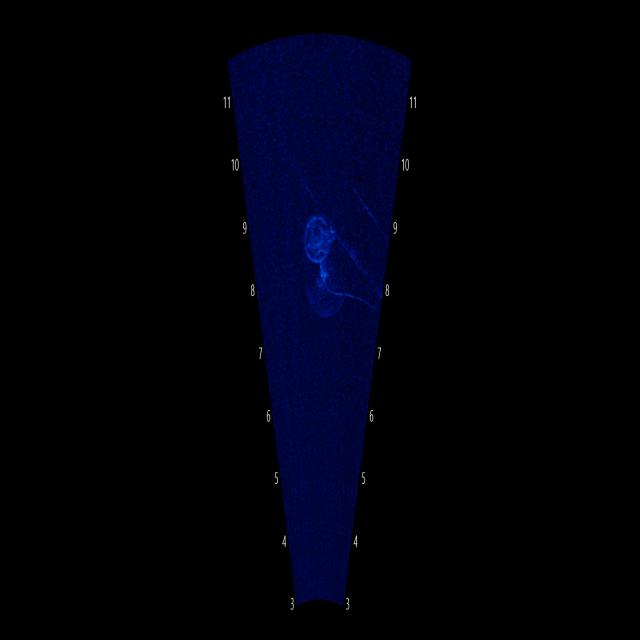circle: (295, 187, 344, 280)
